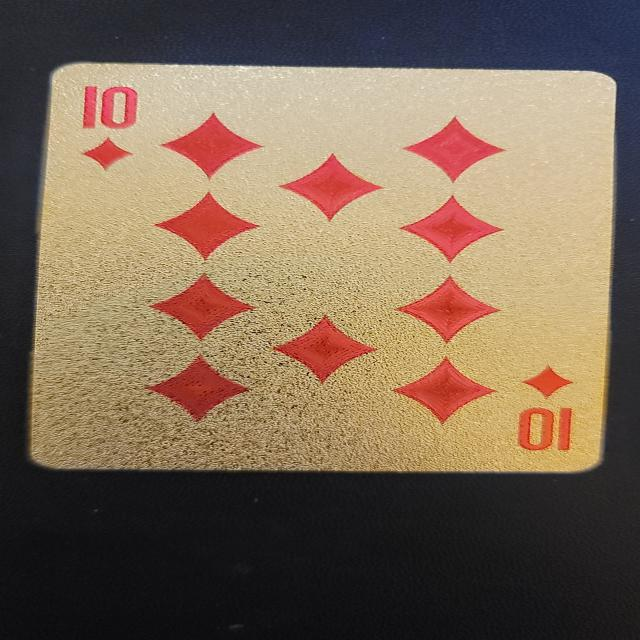10 of diamonds: (27, 61, 621, 474)
